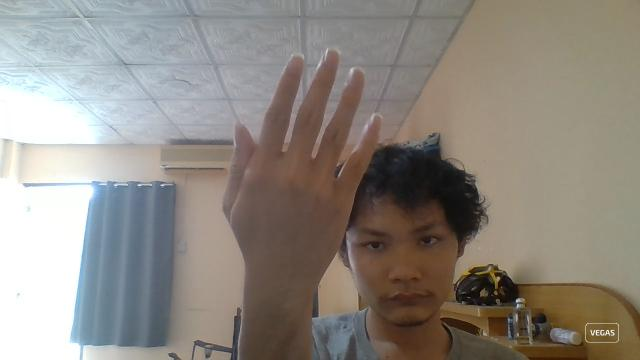backword: (222, 46, 382, 296)
